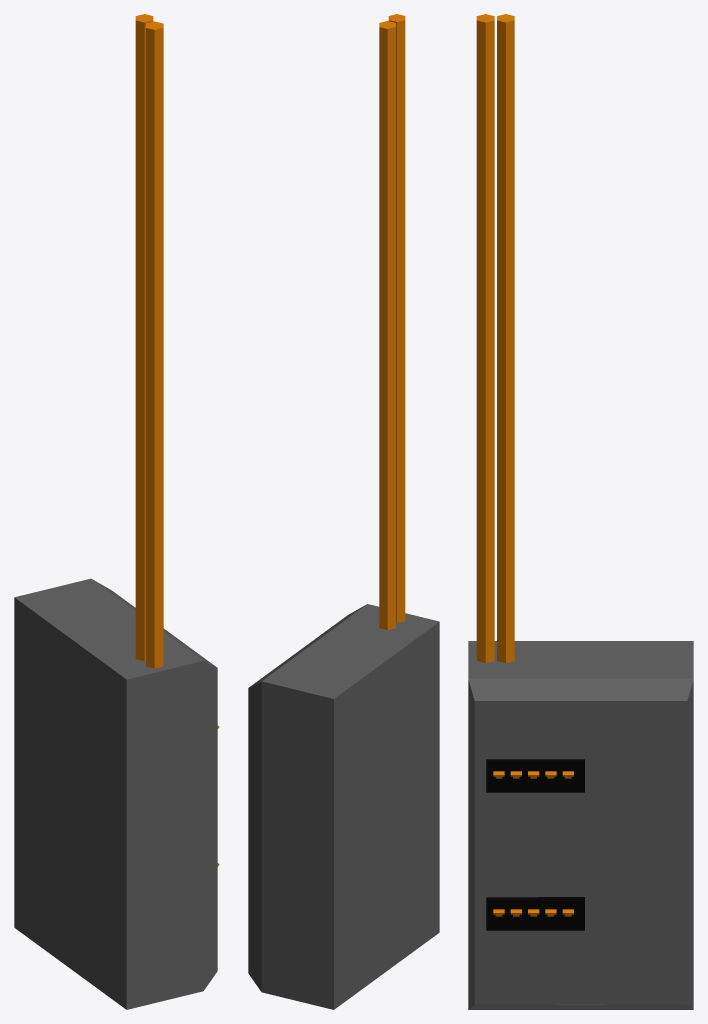
Rendered from disjoncteur.fbx.
3 renders of one model, left to right at view 1: azimuth 30°, elevation 25°; view 2: azimuth 150°, elevation 25°; view 3: azimuth 270°, elevation 25°, orthographic. The views are drawn at different scales.
Parts seen in each view (by area): view 1: boitier, Cable1, Cable2; view 2: boitier, Cable2, Cable1; view 3: boitier, Cable1, Cable2, Boitier1, Boitier2.
Boxes of the visible parts, left/top/right/bottom form: boitier: left=14, top=578, right=217, bottom=1009; Cable1: left=146, top=21, right=163, bottom=668; Cable2: left=135, top=14, right=153, bottom=660; boitier: left=248, top=604, right=439, bottom=1009; Cable2: left=379, top=21, right=395, bottom=629; Cable1: left=388, top=14, right=405, bottom=622; boitier: left=468, top=641, right=693, bottom=1009; Cable1: left=476, top=14, right=494, bottom=663; Cable2: left=497, top=14, right=514, bottom=662; Boitier1: left=486, top=759, right=584, bottom=792; Boitier2: left=486, top=897, right=584, bottom=930.
Bounding box in the file's own units: 21.19 × 186 × 39.12.
